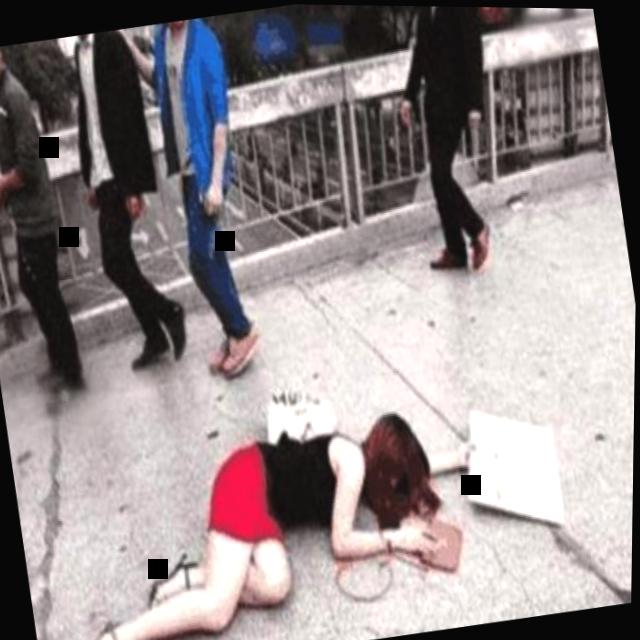Fall-Detected: (45, 377, 485, 640)
